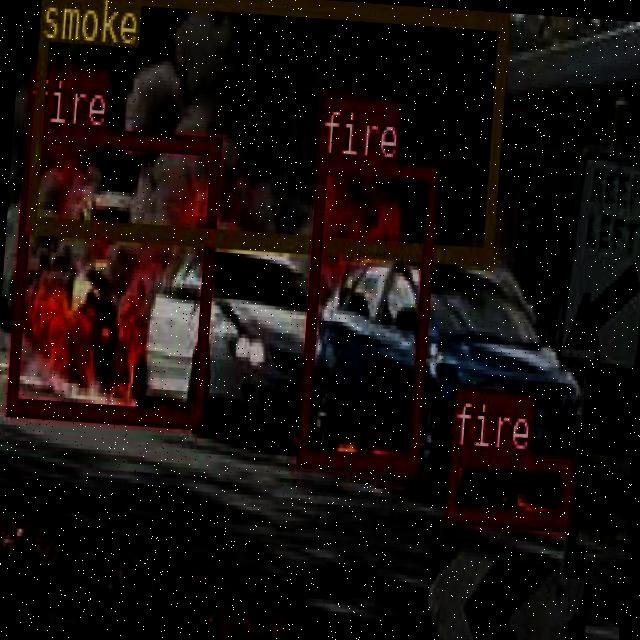fire: (3, 122, 220, 424), (294, 153, 436, 471), (444, 447, 570, 527)
smoke: (23, 0, 506, 259)
